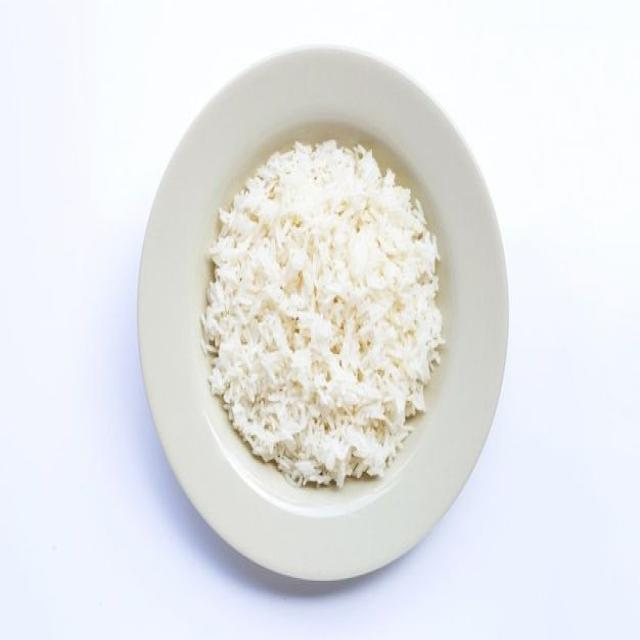Chicken -Chicken Inasal-: (205, 133, 440, 484)
